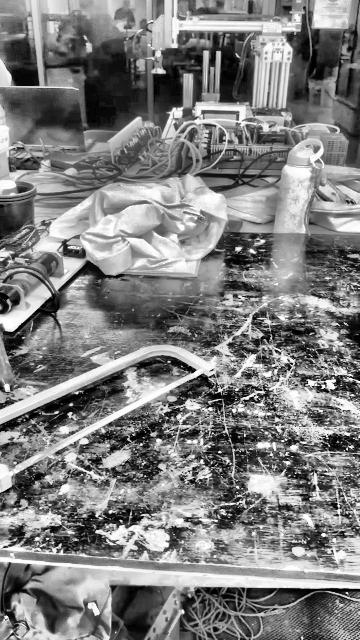pot: (0, 185, 39, 238)
